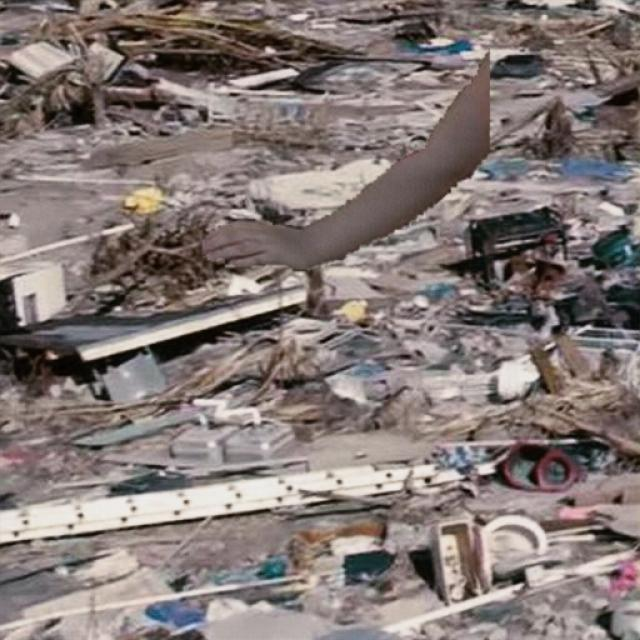Person in Rubble: (202, 49, 488, 270)
